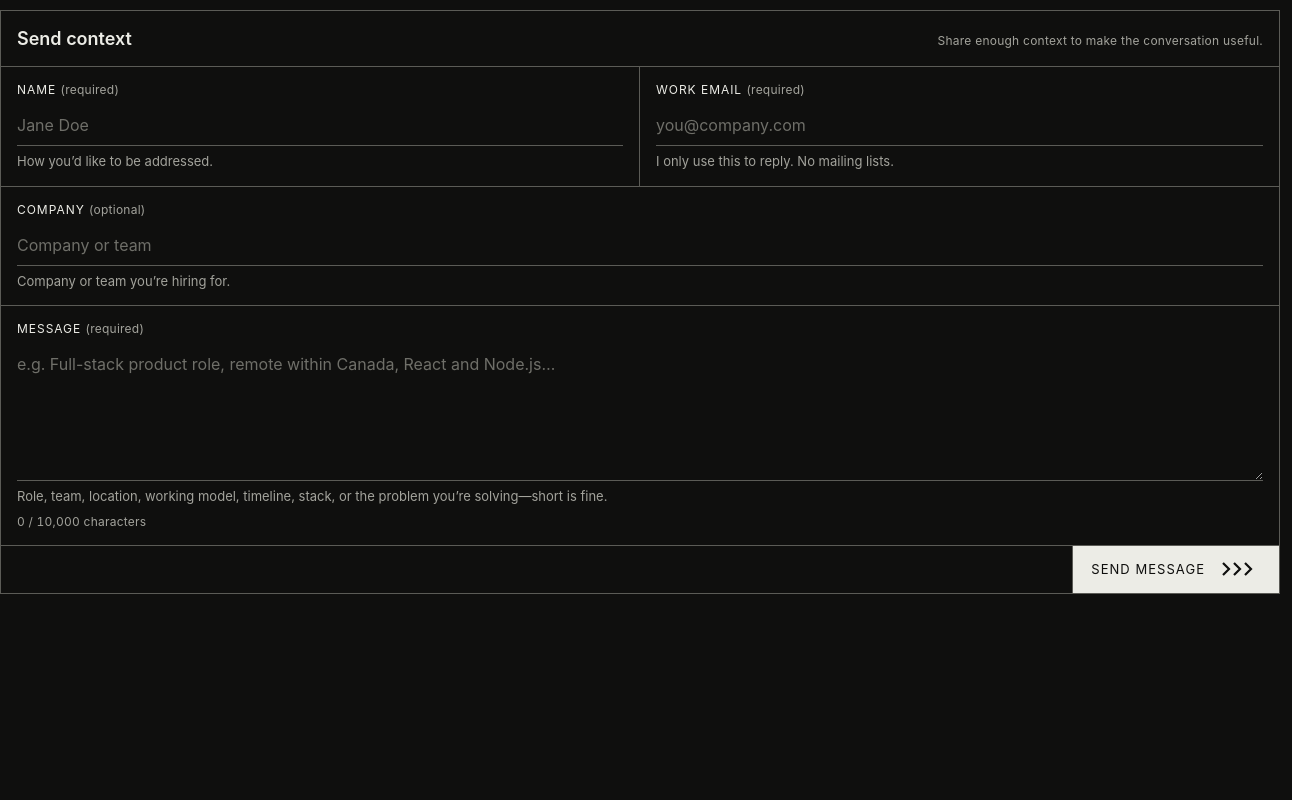
ContactForm › should succes message on successful submit for shows
Step 1. Type "Jane" into the field labelled "Name (required)" → coordinates (320, 126), box [17,105,623,146]
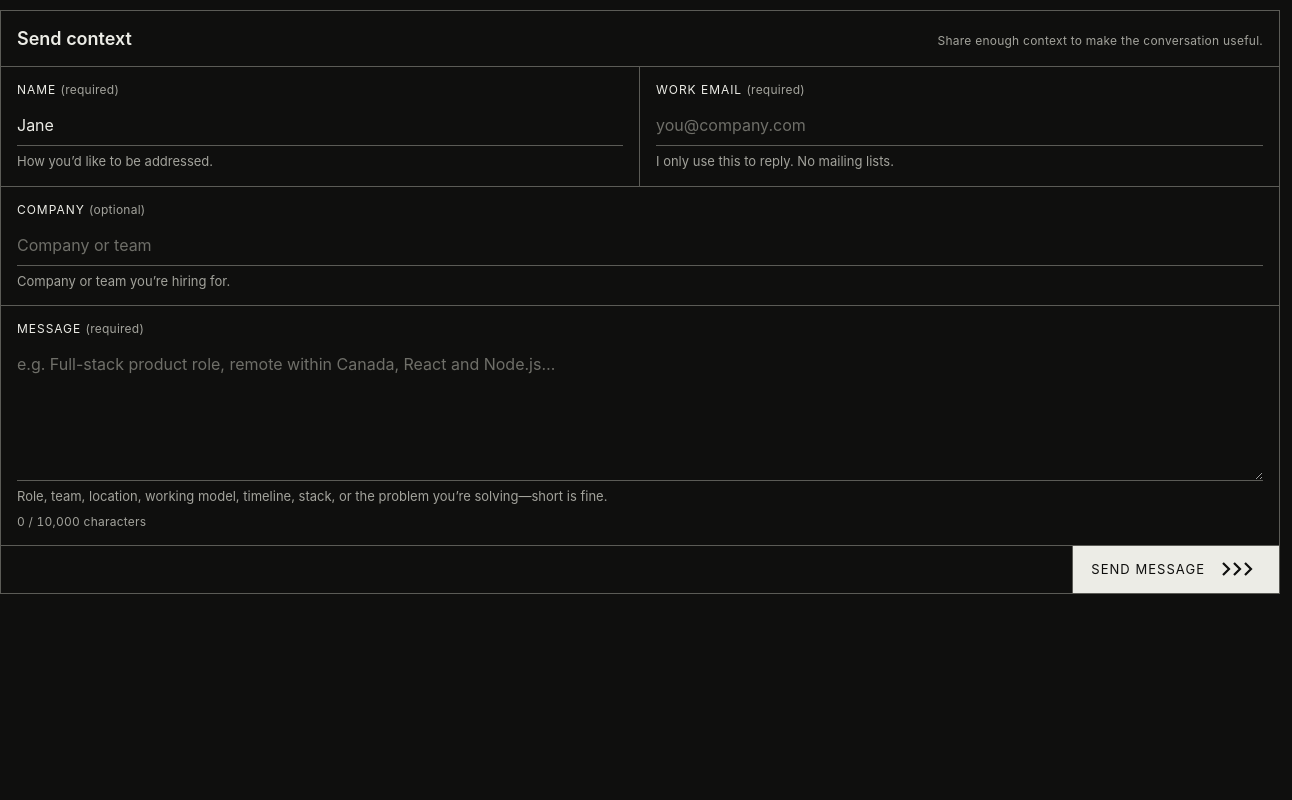
Step 2. Type "jane@example.com" into the field labelled "Work email (required)" → coordinates (960, 126), box [656,105,1263,146]
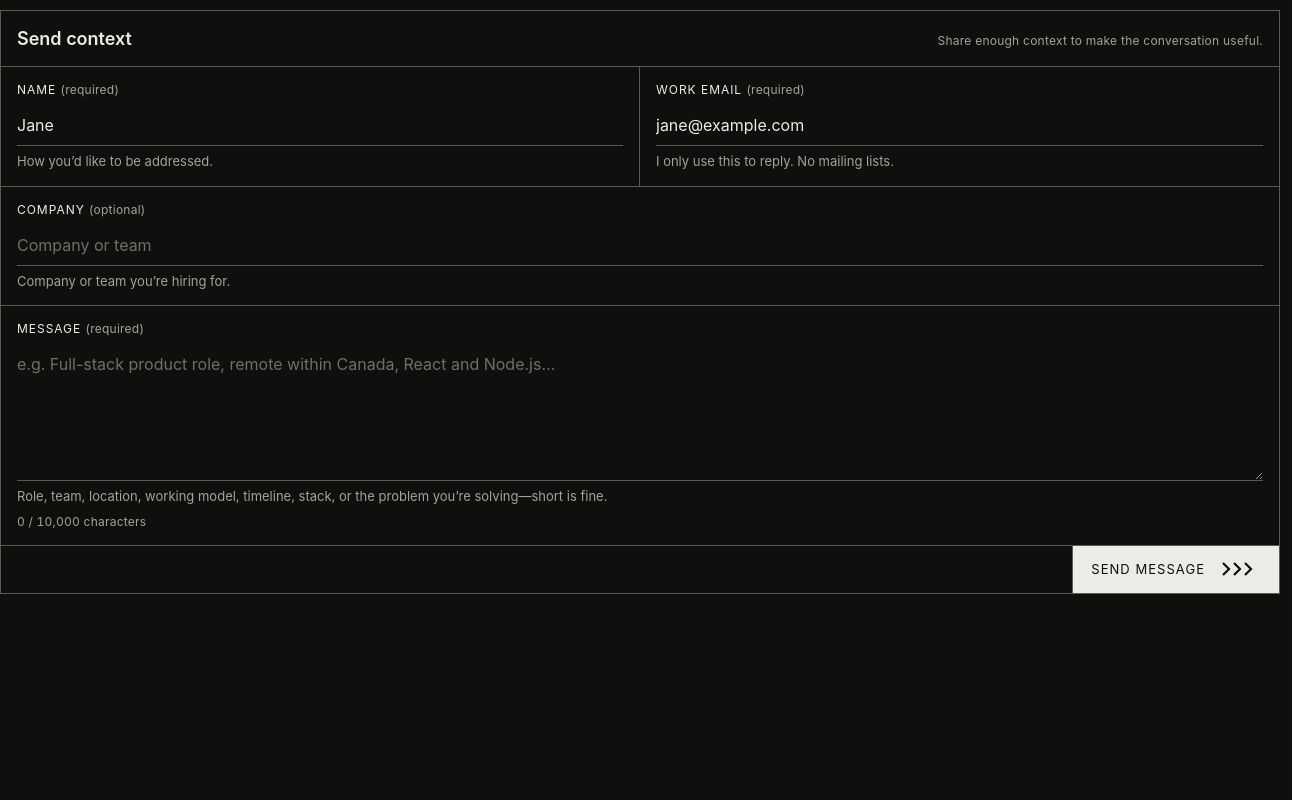
Step 3. Replace the text in the text box labelled "Message (required)" with "Hello there" → coordinates (640, 412), box [17,344,1263,481]
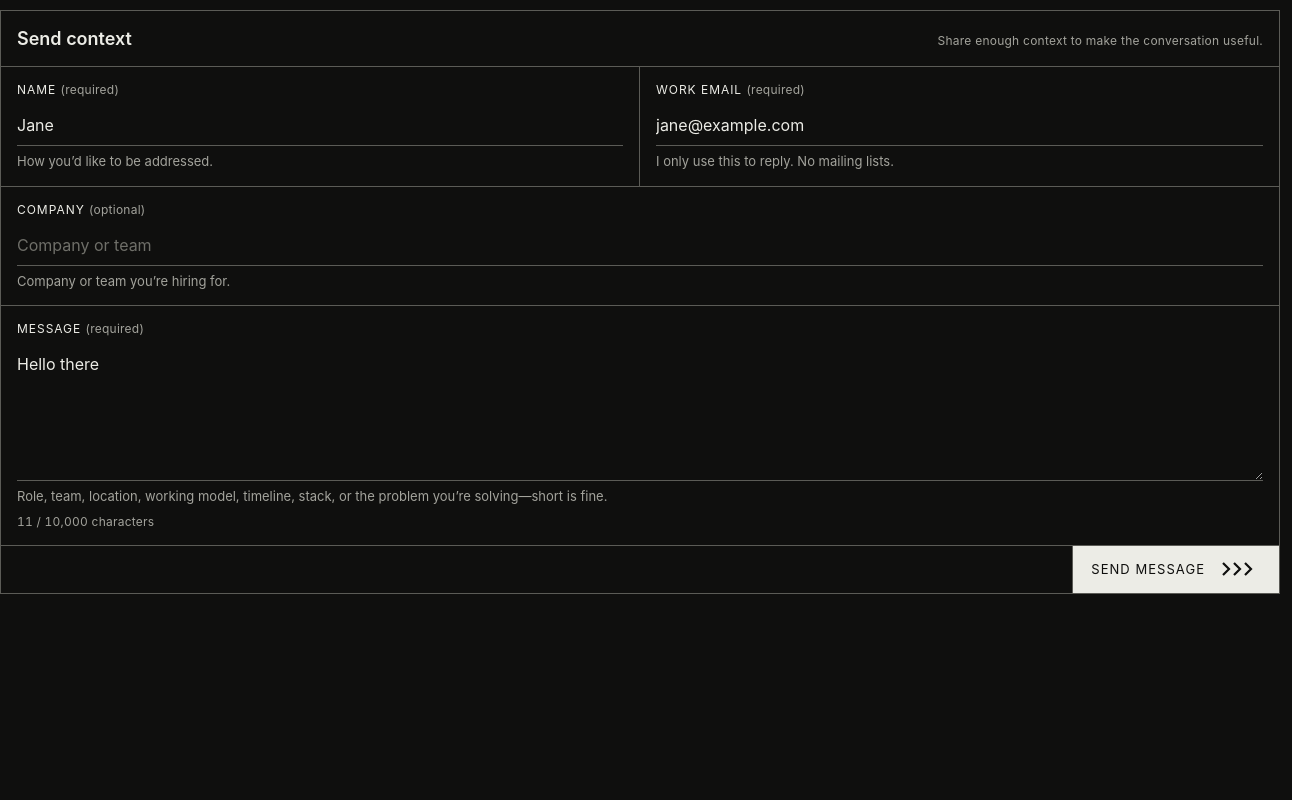
Step 4. Click the button "Send message" → coordinates (1176, 569), box [1072,546,1279,593]
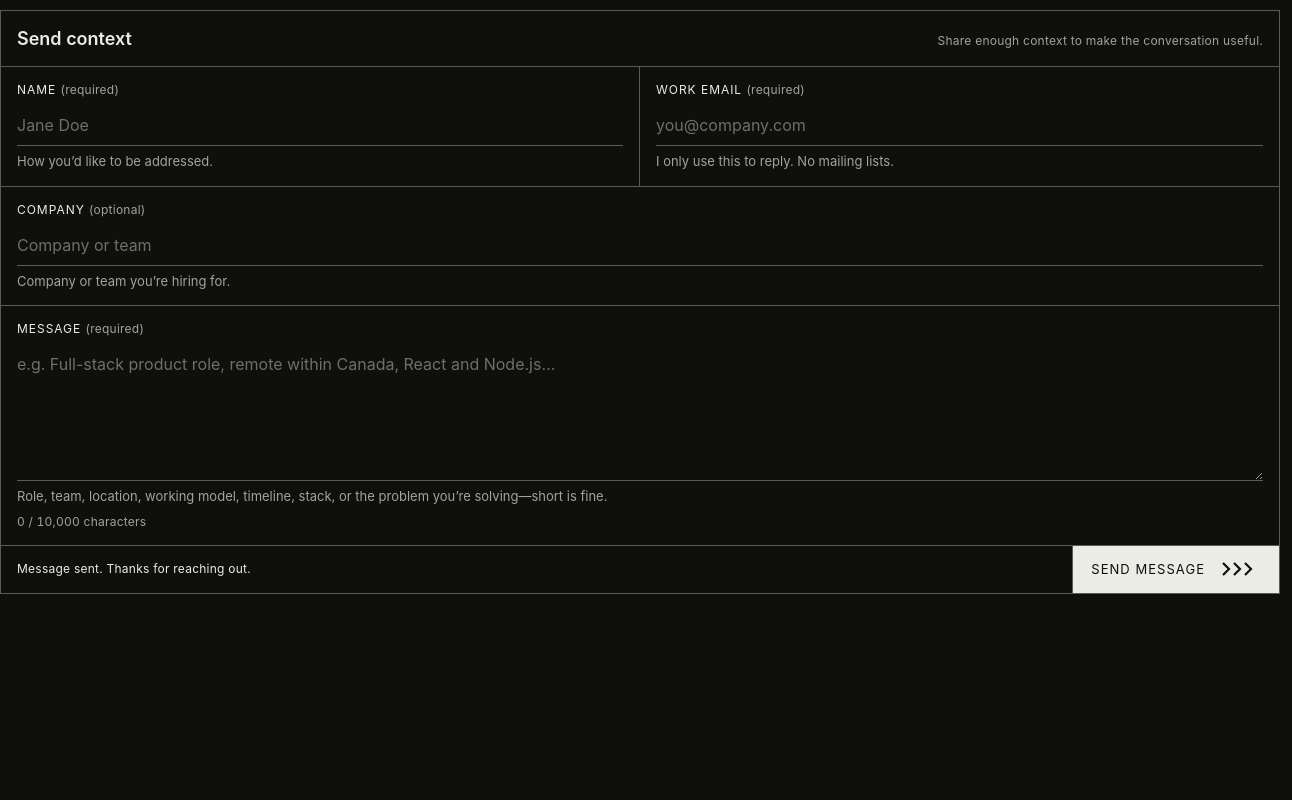
Expected: the text "Message sent. Thanks for reaching out." is shown, [17,560,251,576]
